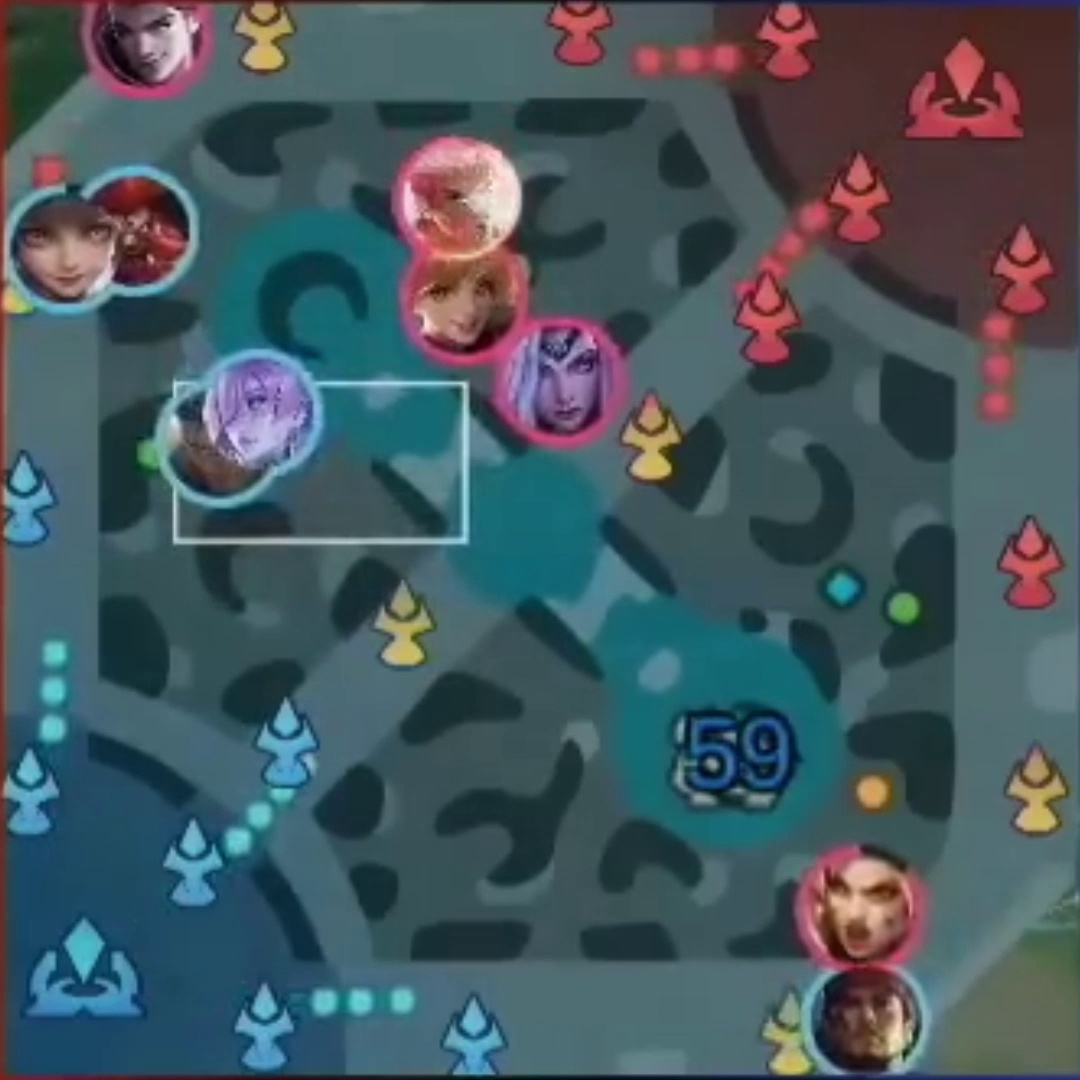Chou: (411, 153, 498, 249)
Claude: (109, 2, 190, 74)
Fanny: (419, 261, 502, 343)
Lapu-Lapu: (826, 972, 911, 1065)
Masha: (818, 861, 902, 959)
Minotaur: (118, 179, 178, 279)
Novaria: (222, 368, 307, 457)
Valentina: (514, 337, 606, 423)
Wanwan: (23, 196, 112, 301)
